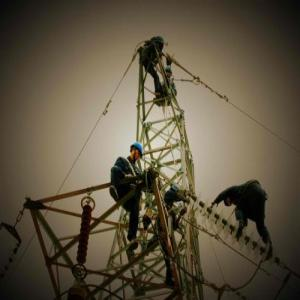blue: (130, 139, 145, 166)
